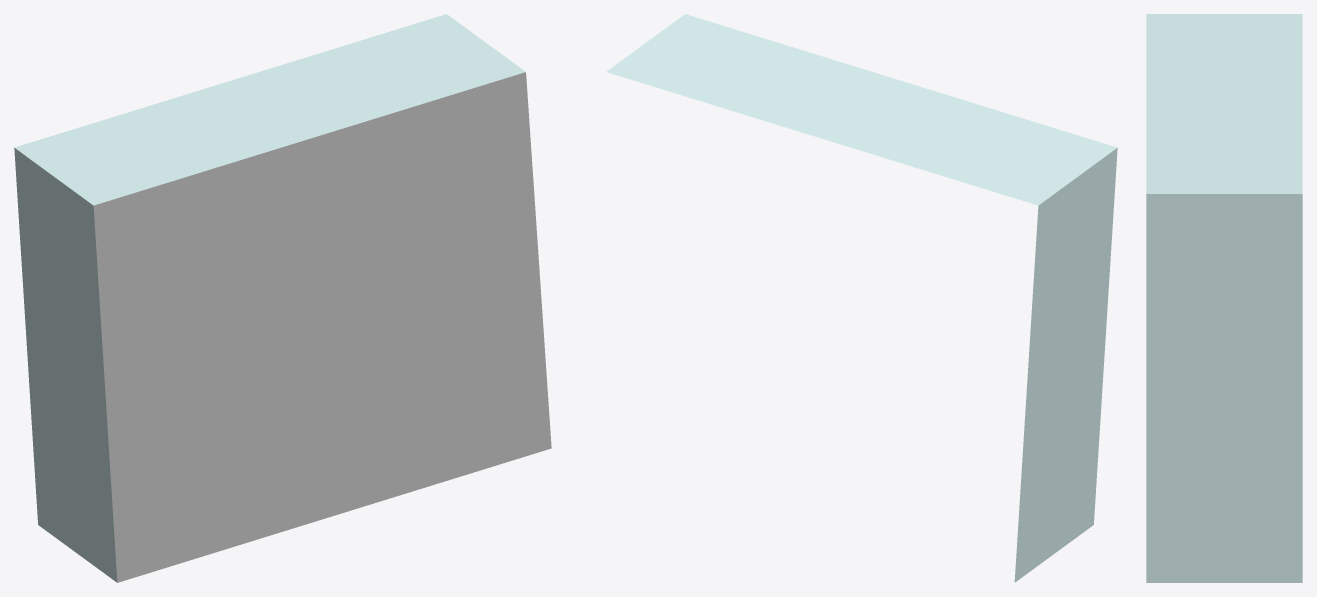
The picture shows the model from 3 angles, left to right: view 1: azimuth 30°, elevation 25°; view 2: azimuth 150°, elevation 25°; view 3: azimuth 270°, elevation 25°; orthographic projection.
Visible parts, largest first — view 1: 0_1_2_1_0_2_3_2_1; view 2: 0_1_2_1_0_2_3_2_1; view 3: 0_1_2_1_0_2_3_2_1.
Boxes of the visible parts, x1=… form: 0_1_2_1_0_2_3_2_1: x1=14, y1=14, x2=551, y2=582; 0_1_2_1_0_2_3_2_1: x1=606, y1=14, x2=1117, y2=582; 0_1_2_1_0_2_3_2_1: x1=1146, y1=14, x2=1302, y2=582.
Bounding box in the file's own units: 10.01 × 8.59 × 3.
